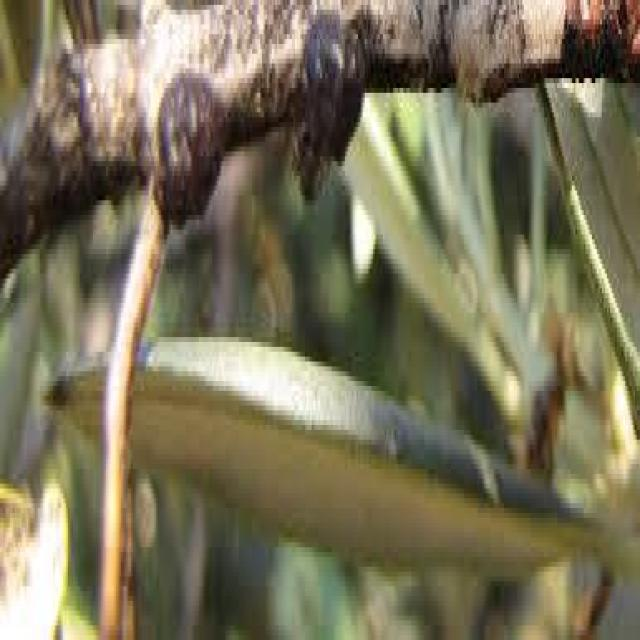Black Scale: (293, 10, 363, 200), (156, 68, 227, 235)
